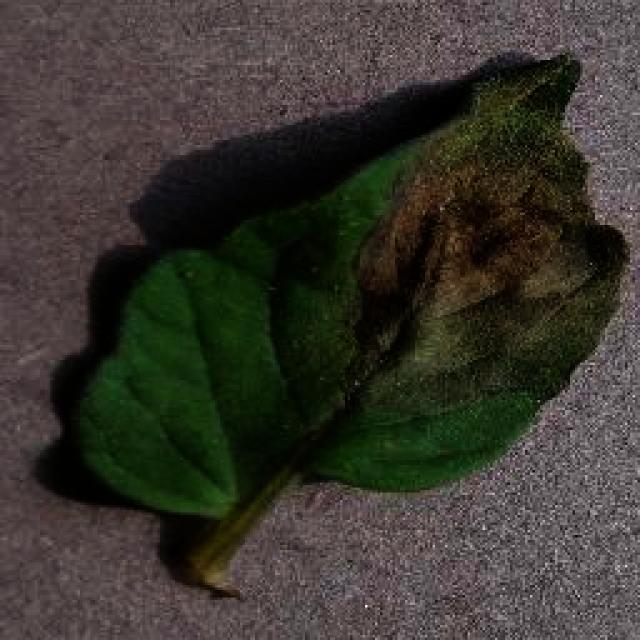Tomato late blight leaf: (74, 50, 628, 515)
